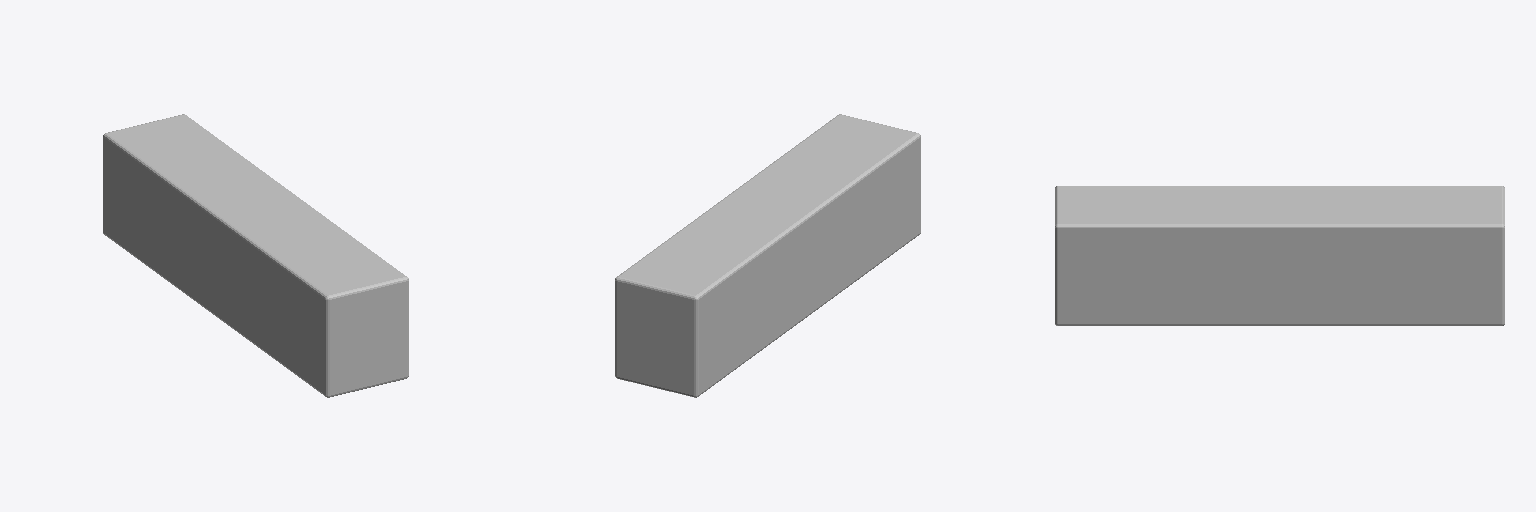
The model's file is RockShellTexture.obj.
The picture shows the model from 3 angles: view 1: azimuth 30°, elevation 25°; view 2: azimuth 150°, elevation 25°; view 3: azimuth 270°, elevation 25°; orthographic projection.
Visible parts, largest first — view 1: ConcreteShellDock Environment; view 2: ConcreteShellDock Environment; view 3: ConcreteShellDock Environment.
Boxes of the visible parts, <box> form: ConcreteShellDock Environment: <box>103,114,408,397</box>; ConcreteShellDock Environment: <box>615,114,920,397</box>; ConcreteShellDock Environment: <box>1055,186,1504,325</box>.
Bounding box in the file's own units: 1.71 × 2 × 8.